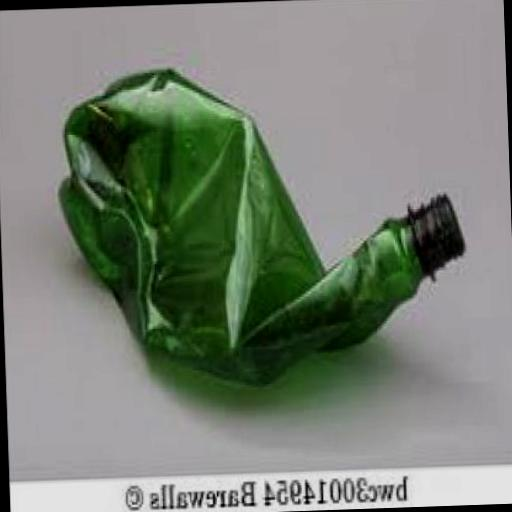plastic: (56, 55, 470, 386)
